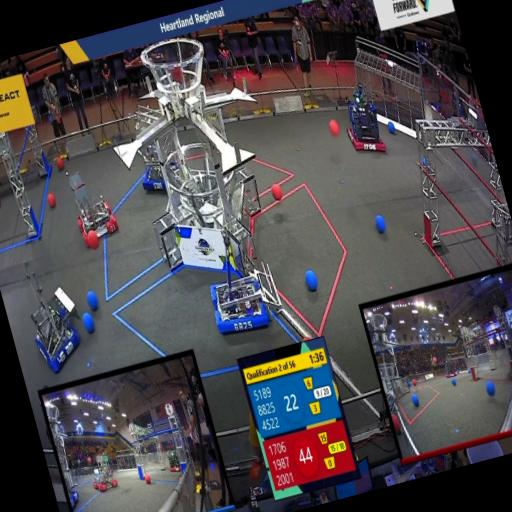robot: (194, 218, 290, 345), (11, 252, 88, 375), (58, 158, 122, 250), (332, 77, 390, 165), (128, 130, 179, 196)
